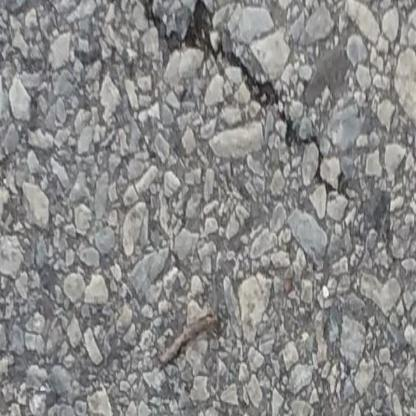Cracks: (89, 0, 323, 169), (283, 407, 416, 416)
